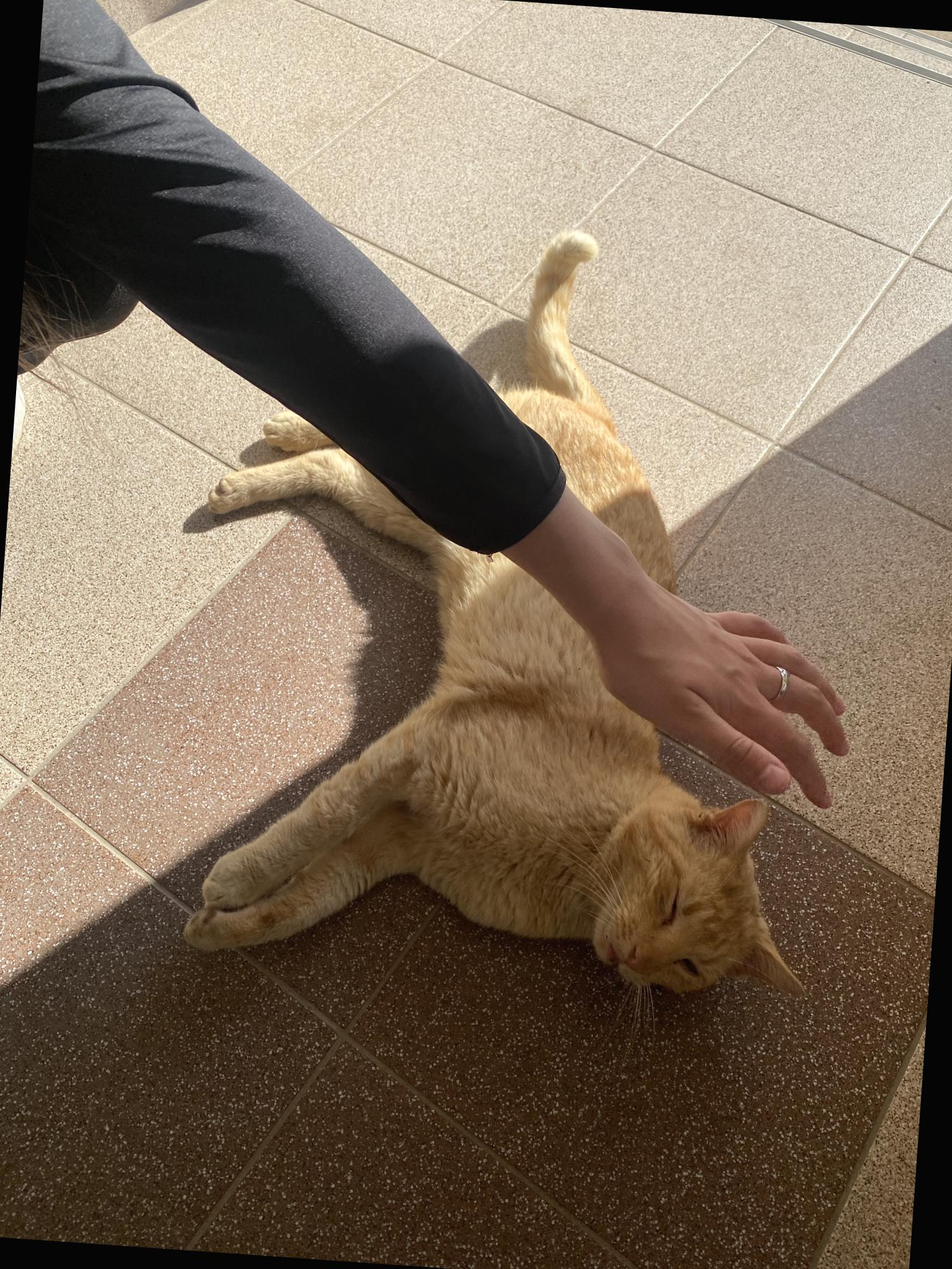macka: (181, 204, 864, 1006)
